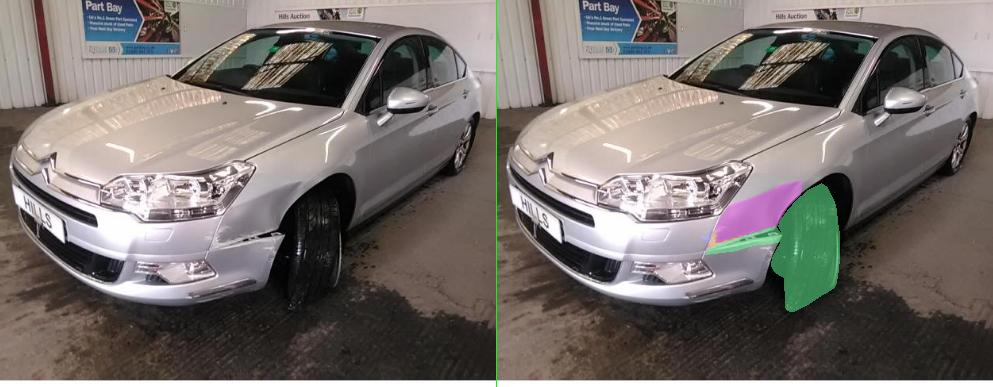Broken part: (549, 183, 685, 311), (416, 226, 573, 254)
Dent: (416, 181, 611, 250)
Paint chip: (418, 230, 513, 250)
Scratch: (408, 236, 428, 242), (420, 231, 434, 235)
